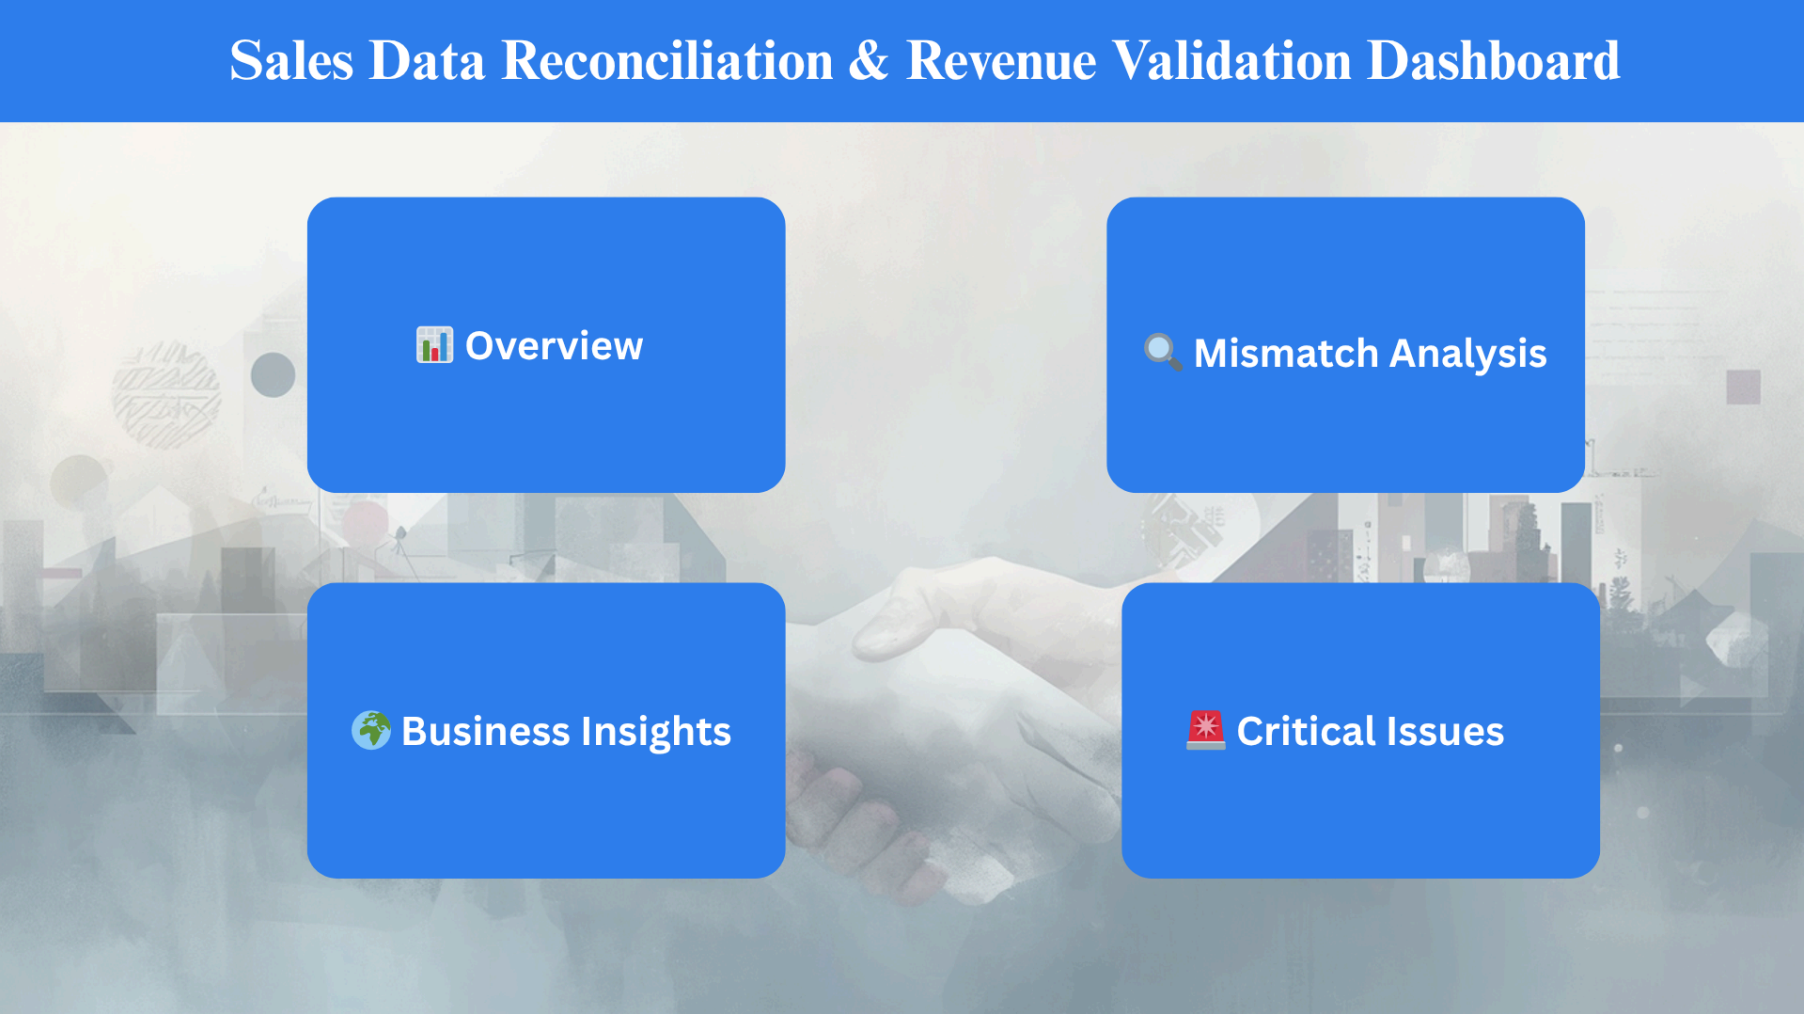

This screenshot's page, from the dashboard's own definition file:
{"tool":"powerbi","page":{"name":"Home","canvas":[1600,900],"ordinal":0},"visuals":[{"type":"actionButton","box":[90.6,193.5,236,124.9],"z":0},{"type":"actionButton","box":[498.1,171.5,293.7,146.8],"z":1000},{"type":"actionButton","box":[72.7,485.8,301.9,112.5],"z":2000},{"type":"actionButton","box":[498.1,485.8,293.7,90.6],"z":3000},{"type":"actionButton","box":[72.7,172.9,282.7,157.8],"z":4000},{"type":"actionButton","box":[476.2,451.5,282.7,157.8],"z":5000},{"type":"actionButton","box":[82.3,440.5,292.3,170.2],"z":6000},{"type":"actionButton","box":[465.2,177,303.3,157.8],"z":7000},{"type":"actionButton","box":[194.9,146.8,315.6,197.6],"z":8000},{"type":"actionButton","box":[791.8,430.9,315.6,193.5],"z":9000},{"type":"actionButton","box":[194.9,430.9,315.6,203.1],"z":10000},{"type":"actionButton","box":[791.8,146.8,315.6,197.6],"z":11000},{"type":"actionButton","box":[194.9,146.8,328,197.6],"z":12000},{"type":"actionButton","box":[791.8,430.9,328,197.6],"z":13000},{"type":"actionButton","box":[196.2,432.2,328,197.6],"z":14000},{"type":"actionButton","box":[791.8,146.8,328,197.6],"z":15000},{"type":"image","box":[0,0,1600,900],"z":16000},{"type":"actionButton","box":[286.9,193.4,385.2,221.3],"z":17000},{"type":"actionButton","box":[1009.8,532.8,390.2,224.6],"z":18000},{"type":"actionButton","box":[286.9,542.6,385.2,214.8],"z":19000},{"type":"actionButton","box":[1009.8,193.4,378.7,221.3],"z":20000}]}

Visuals, with their boxes in screenshot pixels (x1, y1, x2, y2), scaled from the page's 1600x900 canvas onto the 1804x1014 screenshot:
actionButton: {"x1": 102, "y1": 218, "x2": 368, "y2": 359}
actionButton: {"x1": 562, "y1": 193, "x2": 893, "y2": 359}
actionButton: {"x1": 82, "y1": 547, "x2": 422, "y2": 674}
actionButton: {"x1": 562, "y1": 547, "x2": 893, "y2": 649}
actionButton: {"x1": 82, "y1": 195, "x2": 401, "y2": 373}
actionButton: {"x1": 537, "y1": 509, "x2": 856, "y2": 686}
actionButton: {"x1": 93, "y1": 496, "x2": 422, "y2": 688}
actionButton: {"x1": 525, "y1": 199, "x2": 866, "y2": 377}
actionButton: {"x1": 220, "y1": 165, "x2": 576, "y2": 388}
actionButton: {"x1": 893, "y1": 485, "x2": 1249, "y2": 703}
actionButton: {"x1": 220, "y1": 485, "x2": 576, "y2": 714}
actionButton: {"x1": 893, "y1": 165, "x2": 1249, "y2": 388}
actionButton: {"x1": 220, "y1": 165, "x2": 590, "y2": 388}
actionButton: {"x1": 893, "y1": 485, "x2": 1263, "y2": 708}
actionButton: {"x1": 221, "y1": 487, "x2": 591, "y2": 710}
actionButton: {"x1": 893, "y1": 165, "x2": 1263, "y2": 388}
image: {"x1": 0, "y1": 0, "x2": 1803, "y2": 1013}
actionButton: {"x1": 323, "y1": 218, "x2": 758, "y2": 467}
actionButton: {"x1": 1139, "y1": 600, "x2": 1578, "y2": 853}
actionButton: {"x1": 323, "y1": 611, "x2": 758, "y2": 853}
actionButton: {"x1": 1139, "y1": 218, "x2": 1566, "y2": 467}
